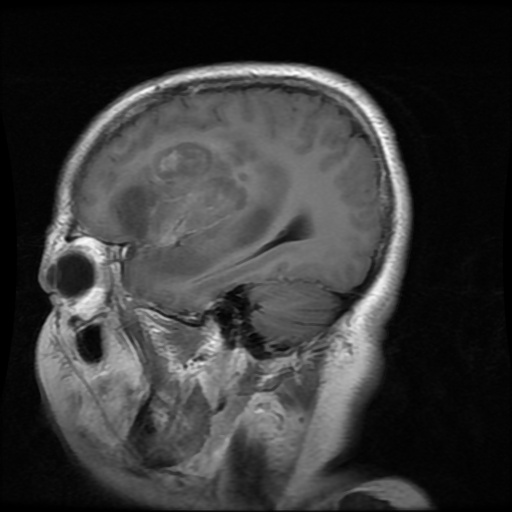glioma: (112, 142, 271, 273)
